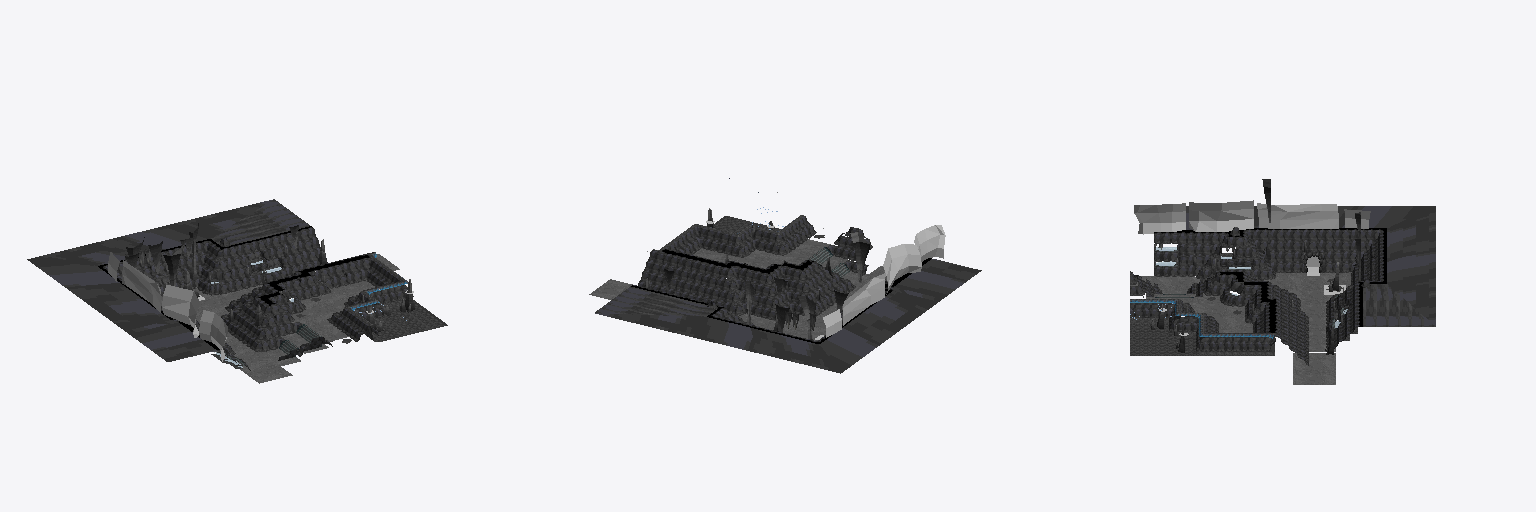
3 renders of one model, left to right at view 1: azimuth 30°, elevation 25°; view 2: azimuth 150°, elevation 25°; view 3: azimuth 270°, elevation 25°, orthographic.
Visible parts, largest first — view 1: polygon26, polygon24, polygon33, polygon18, polygon25, polygon12, polygon17, polygon20, polygon29; view 2: polygon26, polygon24, polygon33, polygon18, polygon25, polygon12, polygon29, polygon20, polygon17; view 3: polygon24, polygon26, polygon33, polygon18, polygon25, polygon17, polygon20, polygon29, polygon12.
Part boxes in pixels (bbox=[...]): polygon26: bbox=[27, 199, 403, 361]; polygon24: bbox=[107, 230, 407, 369]; polygon33: bbox=[161, 254, 399, 383]; polygon18: bbox=[108, 252, 227, 361]; polygon25: bbox=[104, 228, 407, 365]; polygon12: bbox=[125, 223, 414, 354]; polygon17: bbox=[211, 257, 447, 368]; polygon20: bbox=[161, 238, 413, 370]; polygon29: bbox=[98, 226, 368, 349]; polygon26: bbox=[595, 215, 981, 373]; polygon24: bbox=[638, 217, 872, 323]; polygon33: bbox=[589, 239, 887, 340]; polygon18: bbox=[823, 225, 945, 337]; polygon25: bbox=[635, 224, 886, 341]; polygon12: bbox=[646, 208, 885, 339]; polygon29: bbox=[631, 249, 931, 343]; polygon20: bbox=[689, 231, 887, 321]; polygon17: bbox=[714, 216, 847, 315]; polygon24: bbox=[1130, 232, 1379, 362]; polygon26: bbox=[1146, 206, 1435, 333]; polygon33: bbox=[1130, 272, 1351, 384]; polygon18: bbox=[1134, 200, 1370, 234]; polygon25: bbox=[1130, 230, 1382, 359]; polygon17: bbox=[1130, 244, 1357, 355]; polygon20: bbox=[1130, 228, 1370, 365]; polygon29: bbox=[1154, 228, 1386, 331]; polygon12: bbox=[1151, 179, 1360, 354].
Bounding box in the file's own units: 10.69 × 3.83 × 9.55.
34 materials, 30 textured.